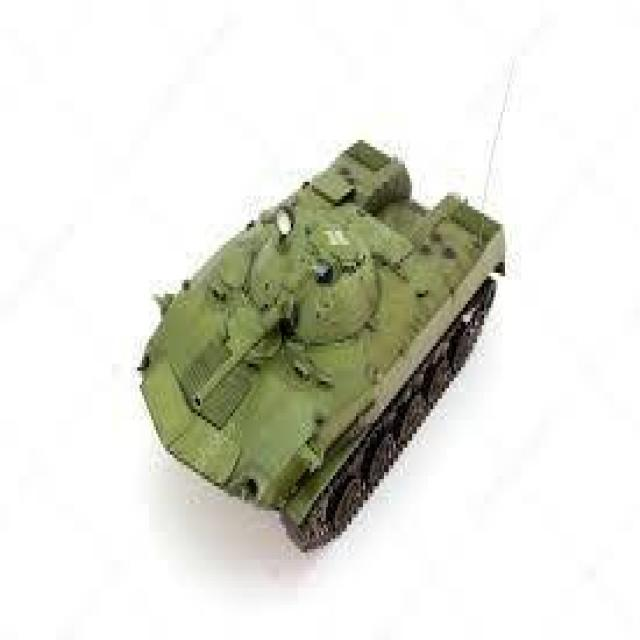Tanks: (124, 133, 532, 517)
